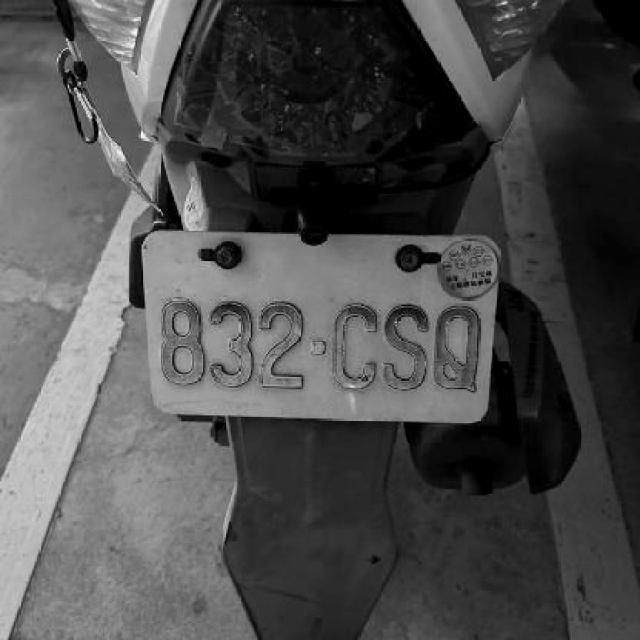-: (311, 338, 329, 357)
2: (255, 294, 312, 386), (205, 297, 257, 385)
8: (157, 294, 211, 386)
C: (331, 295, 382, 391)
Q: (430, 303, 484, 395)
S: (378, 300, 431, 389)
